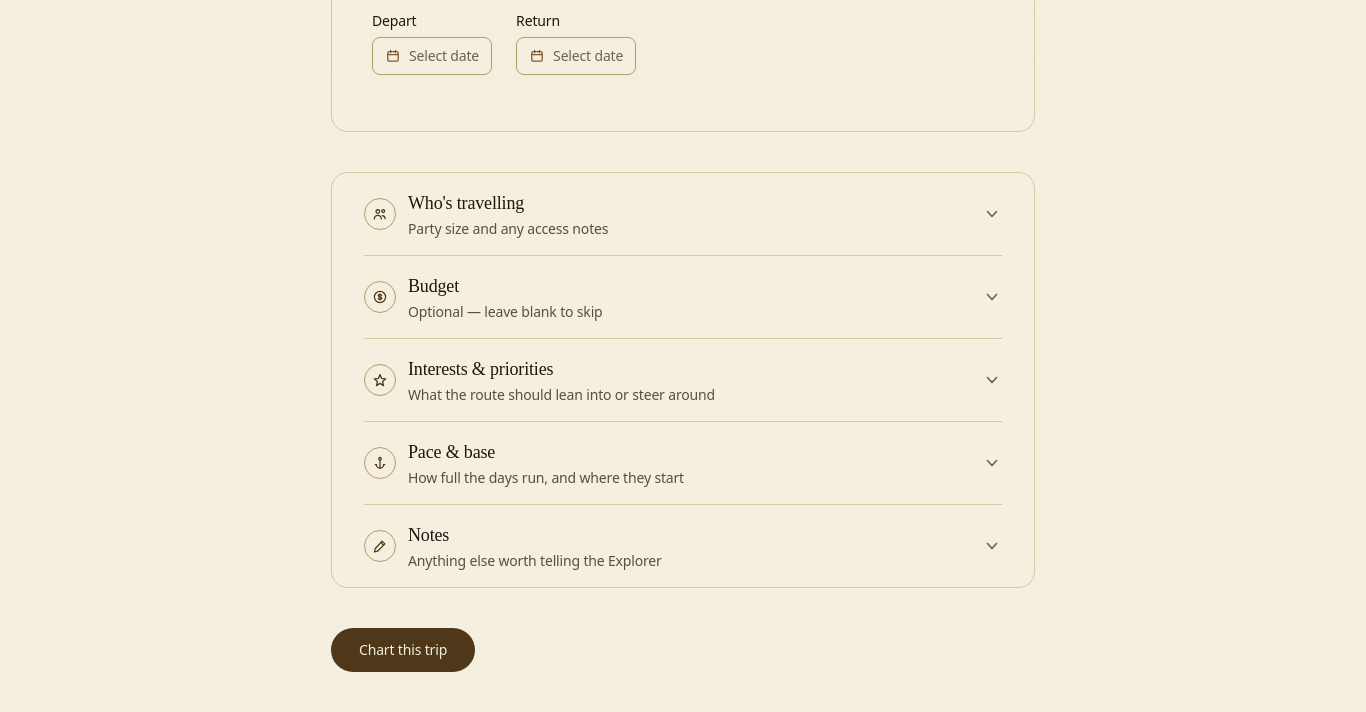
Test: TripInputPage validation › blocks submission and shows an error when destination is empty
(page scrolled)
Click the button "Chart this trip".
click(403, 650)  # box [331,628,475,672]
(page scrolled)
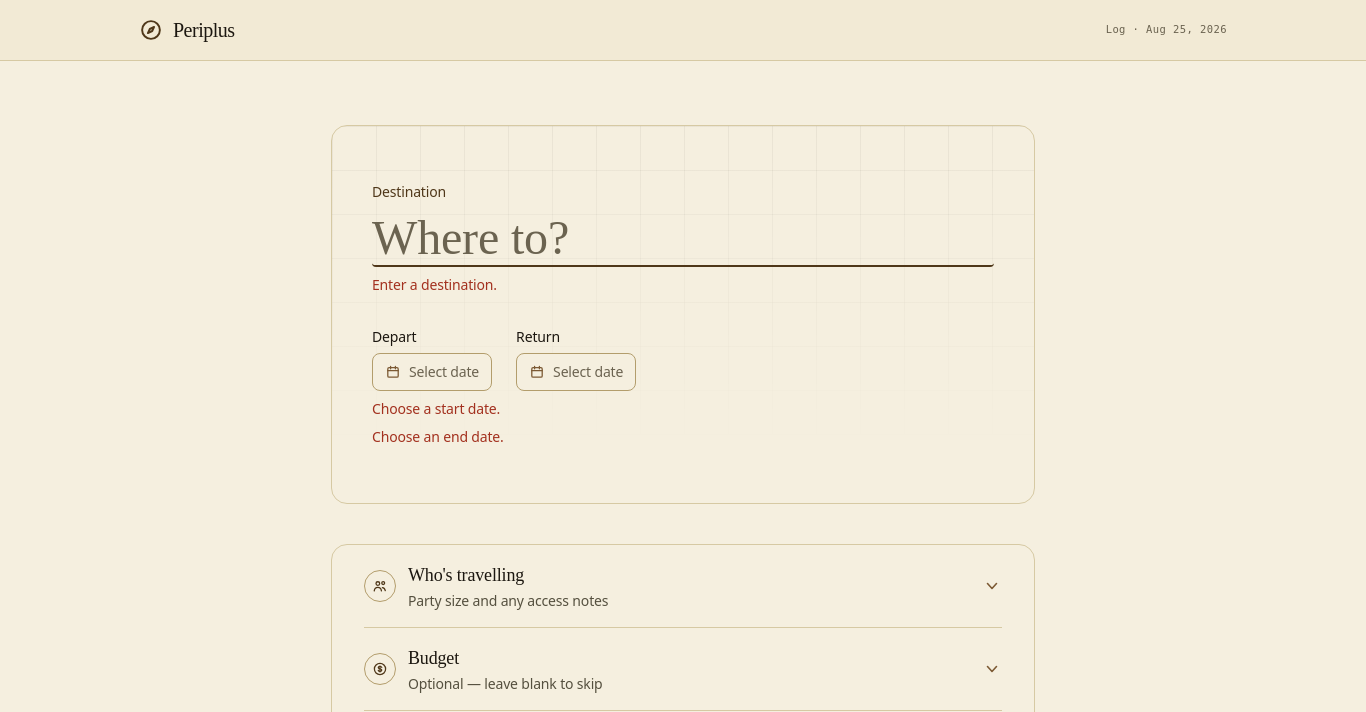
expect the text "Enter a destination." is shown: met, box [372,275,497,294]
